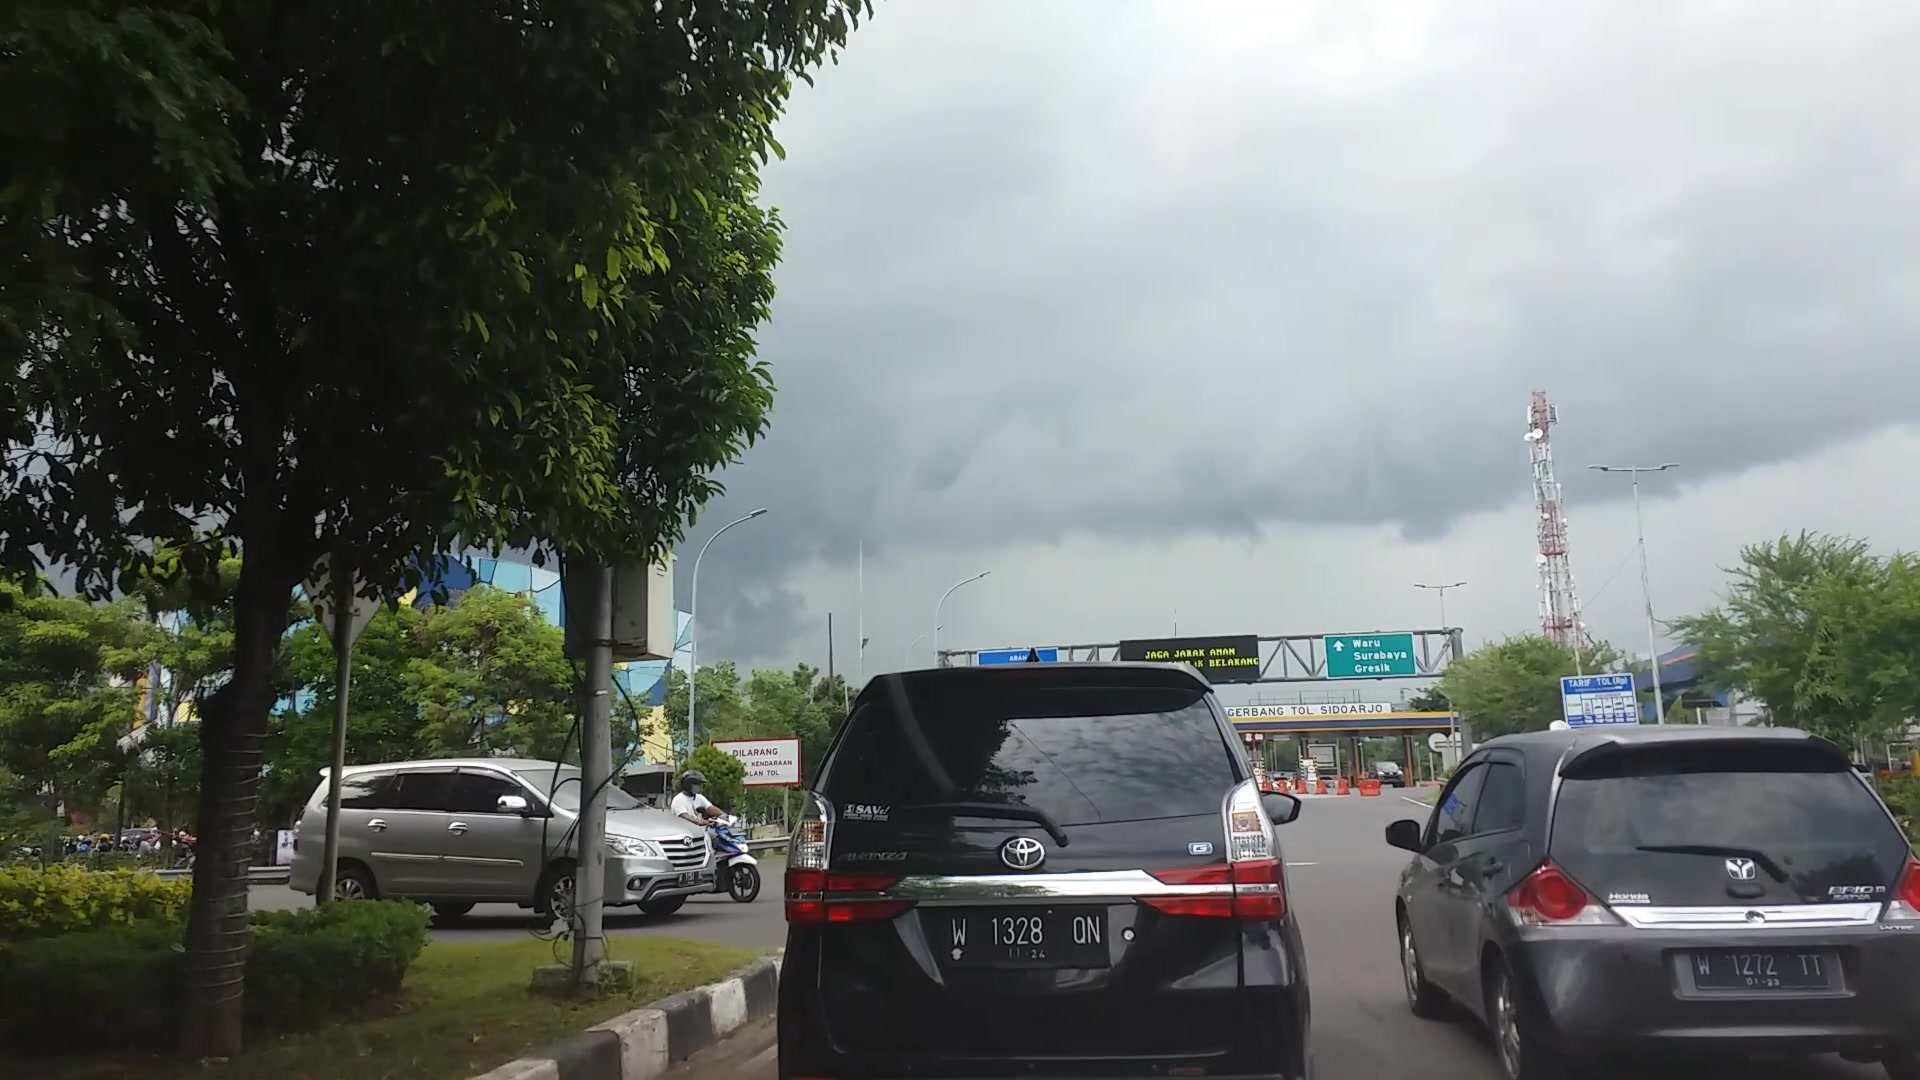plate_positive: (942, 905, 1109, 969), (1691, 951, 1826, 990)
